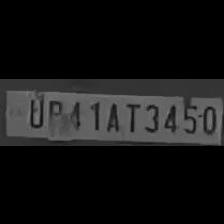0: (198, 100, 218, 134)
1: (84, 96, 103, 132)
3: (140, 99, 160, 133)
4: (63, 95, 83, 131), (160, 99, 178, 134)
5: (180, 98, 198, 134)
A: (102, 97, 122, 131)
P: (45, 96, 63, 130)
T: (122, 98, 140, 132)
U: (22, 94, 46, 128)
